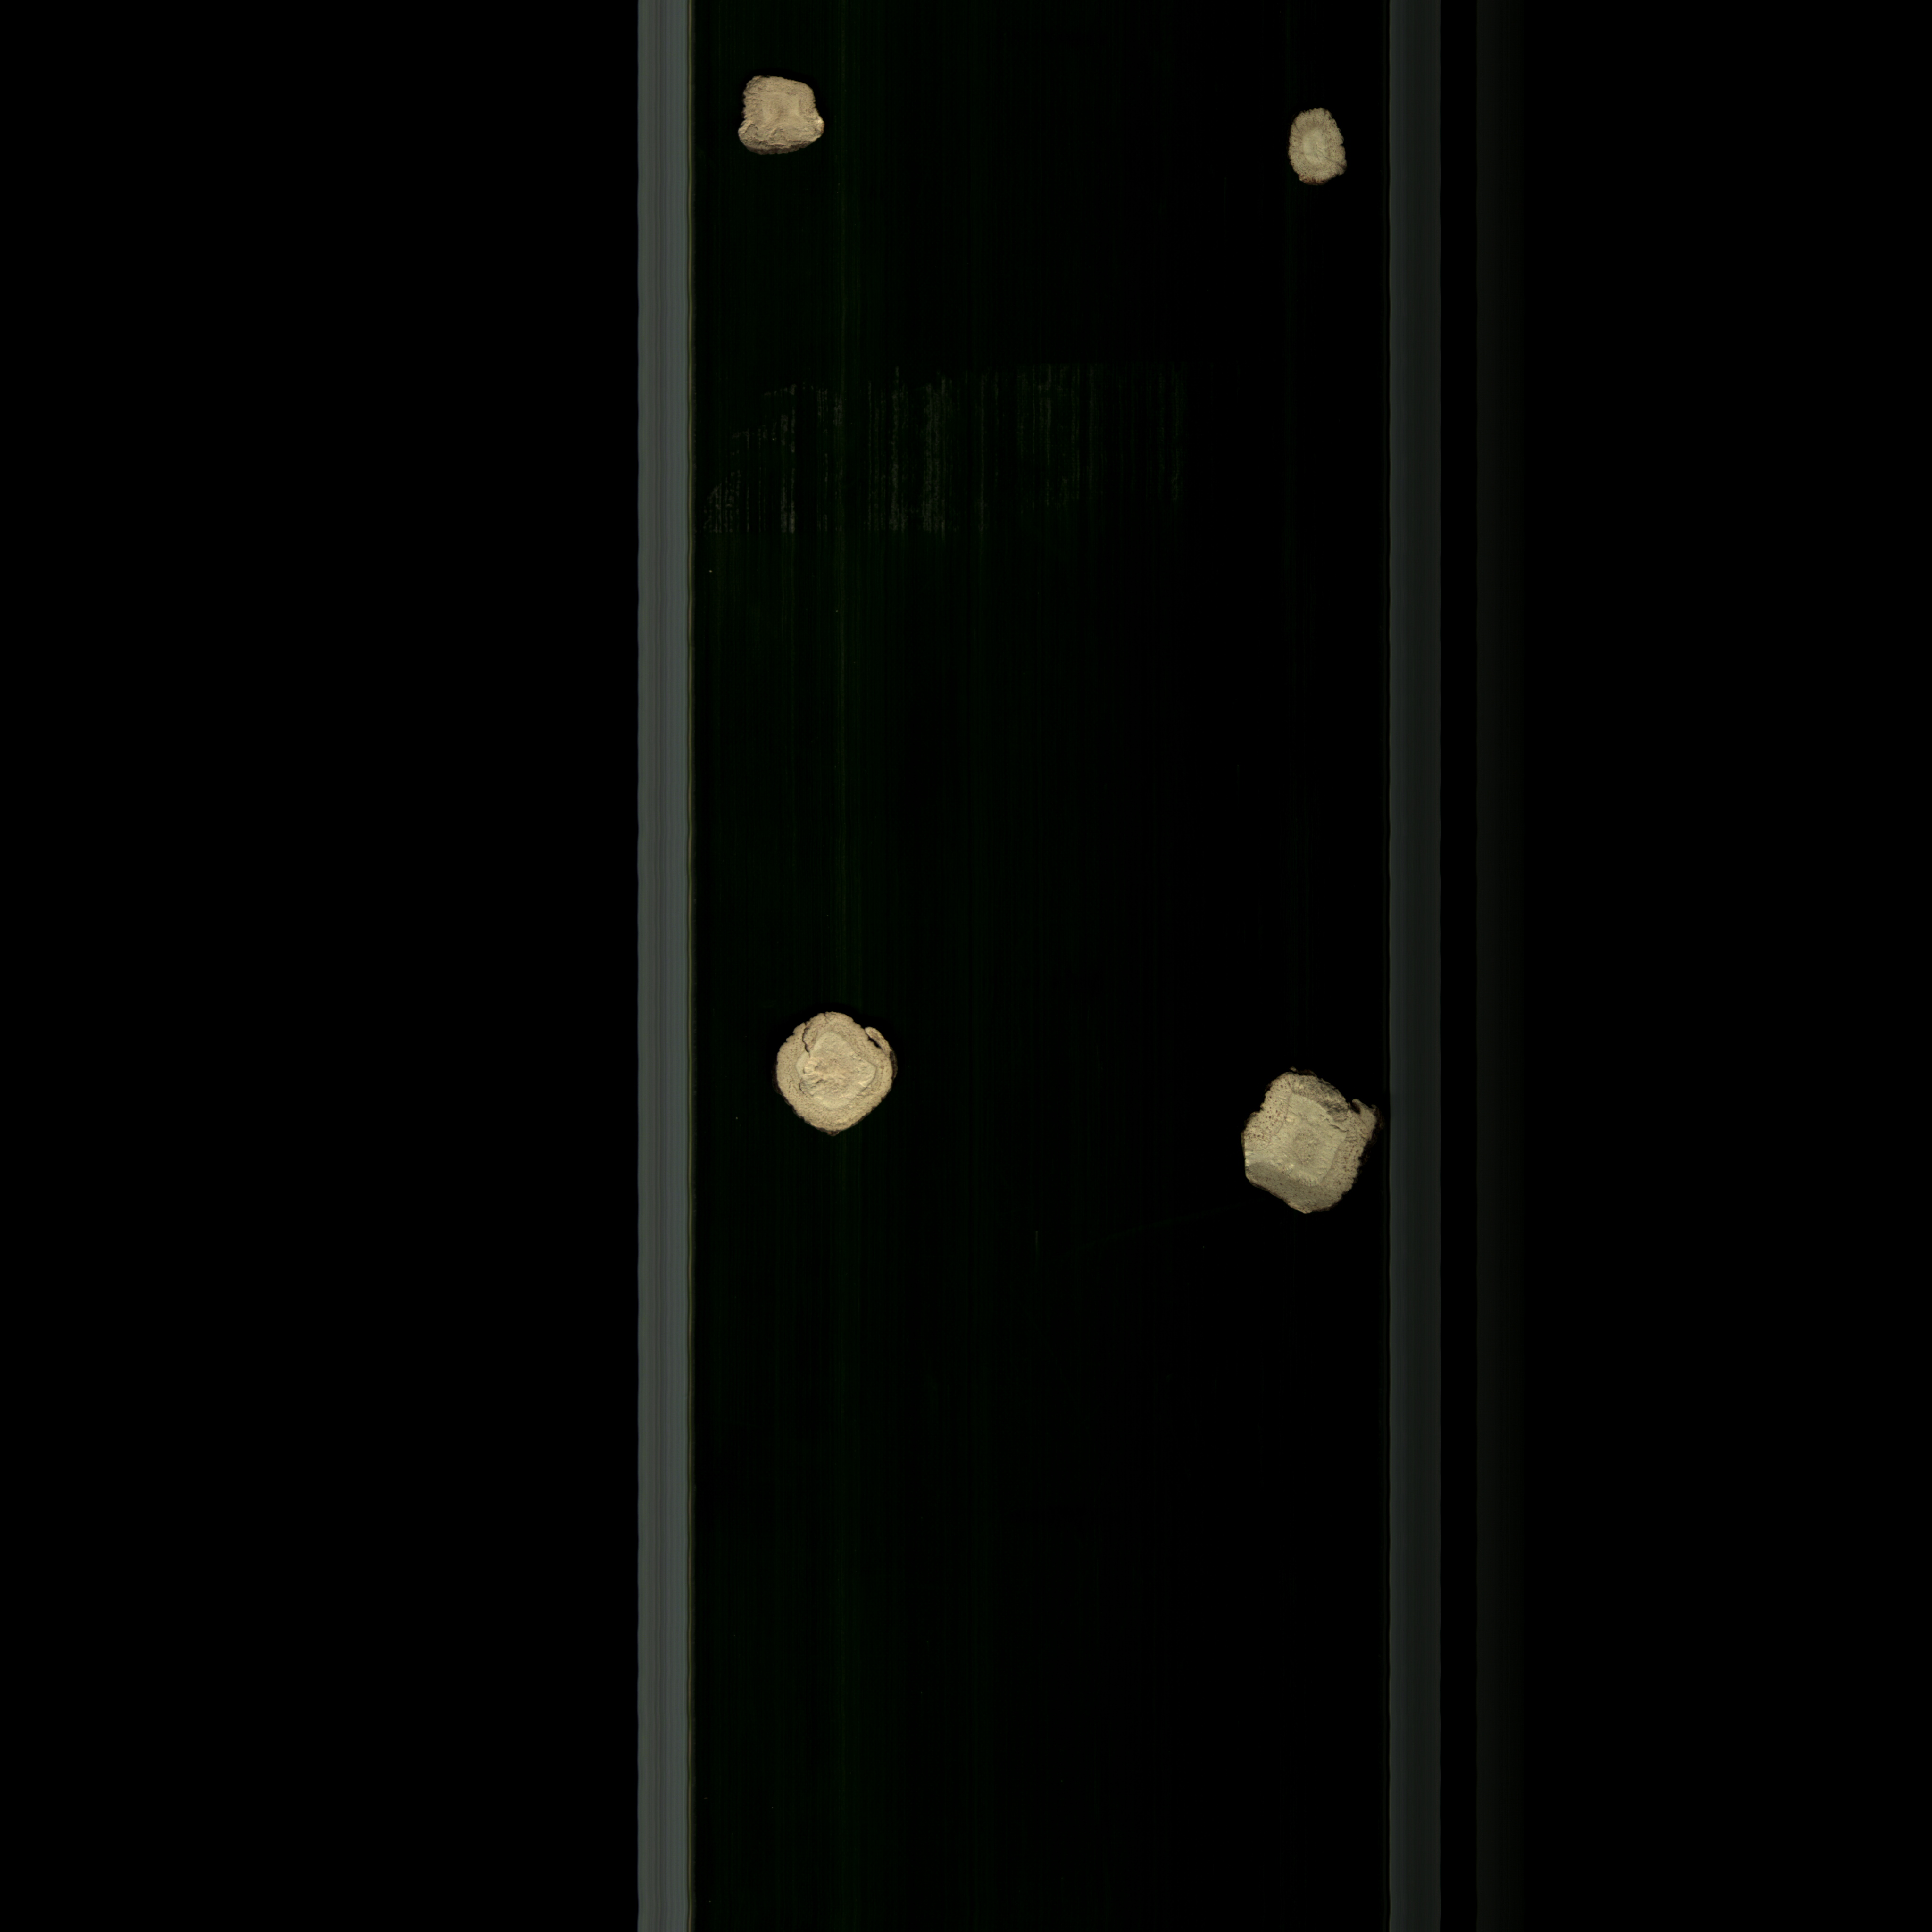distortion: (1224, 1053, 1378, 1231)
moldy: (722, 69, 832, 161), (1279, 99, 1353, 198)
